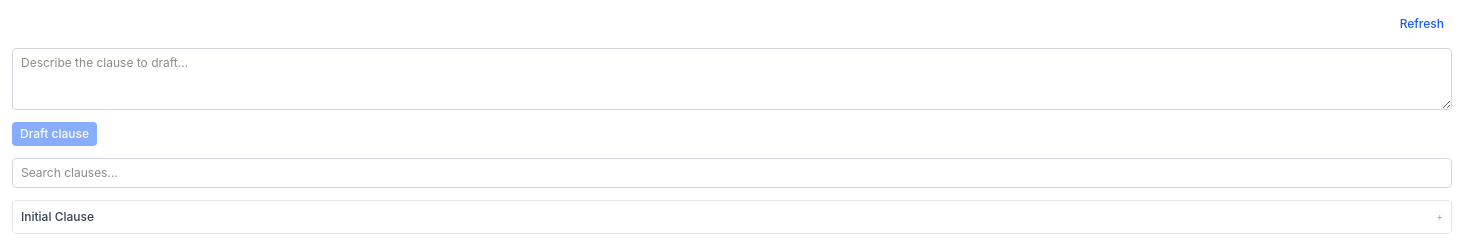
Scenario: ClausesPanel — paid tier › refreshes databases and clauses when the user clicks Refresh
Expected: the text "Initial Clause" is shown, [21,208,94,224]
Click the button with aria-label "Refresh clauses" at (1422, 24), box [1392,12,1452,36]
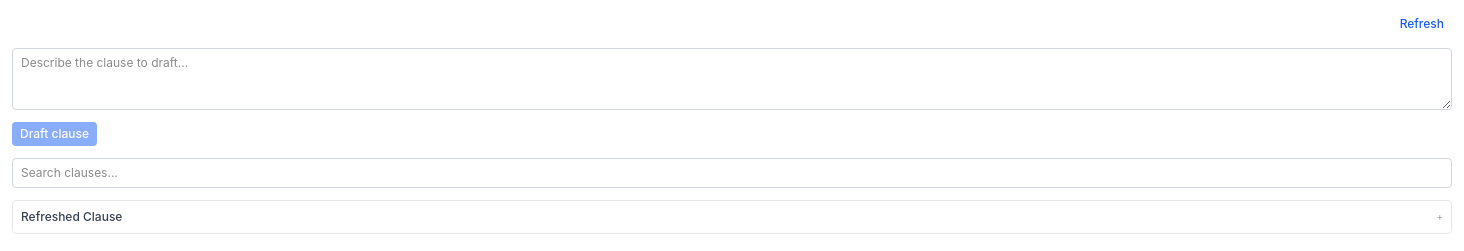
Expected: the text "Refreshed Clause" is shown, [21,208,122,224]
